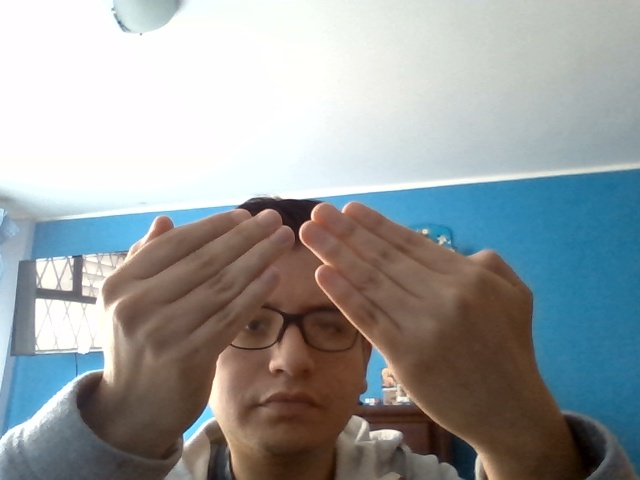gracias: (99, 202, 547, 414)
